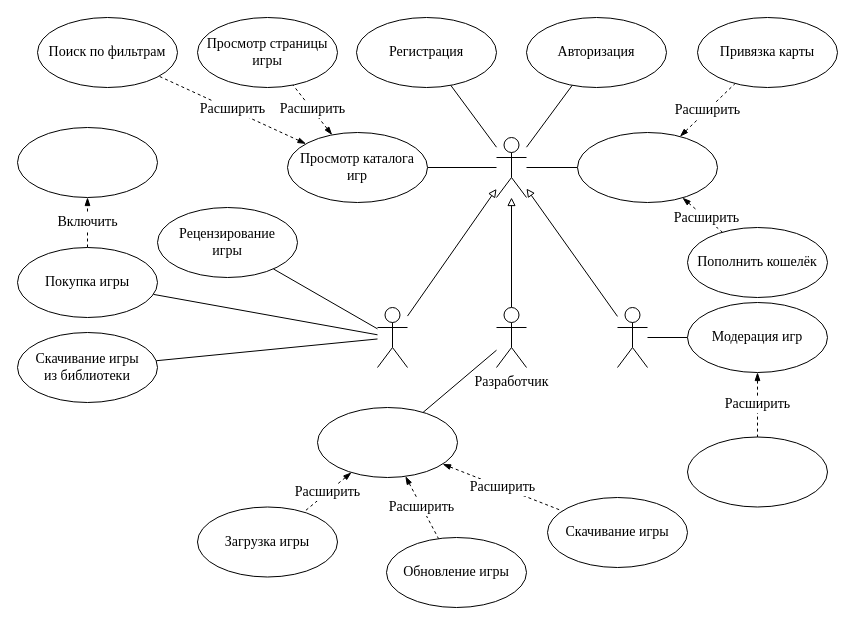
Some shapes in this 855 by 625 pixel diagram are drawn without their labels. Here are the shapes that lost their labels. From the top down, the centre of each, then its label:
the point at 87,162: Заполнение формы покупки
the point at 511,167: Базовый
the point at 647,167: Работа со спосабами оплаты
the point at 392,337: Пользователь
the point at 632,337: Администратор
the point at 387,442: Работа с играми
the point at 757,471: Измениение состояния игры
